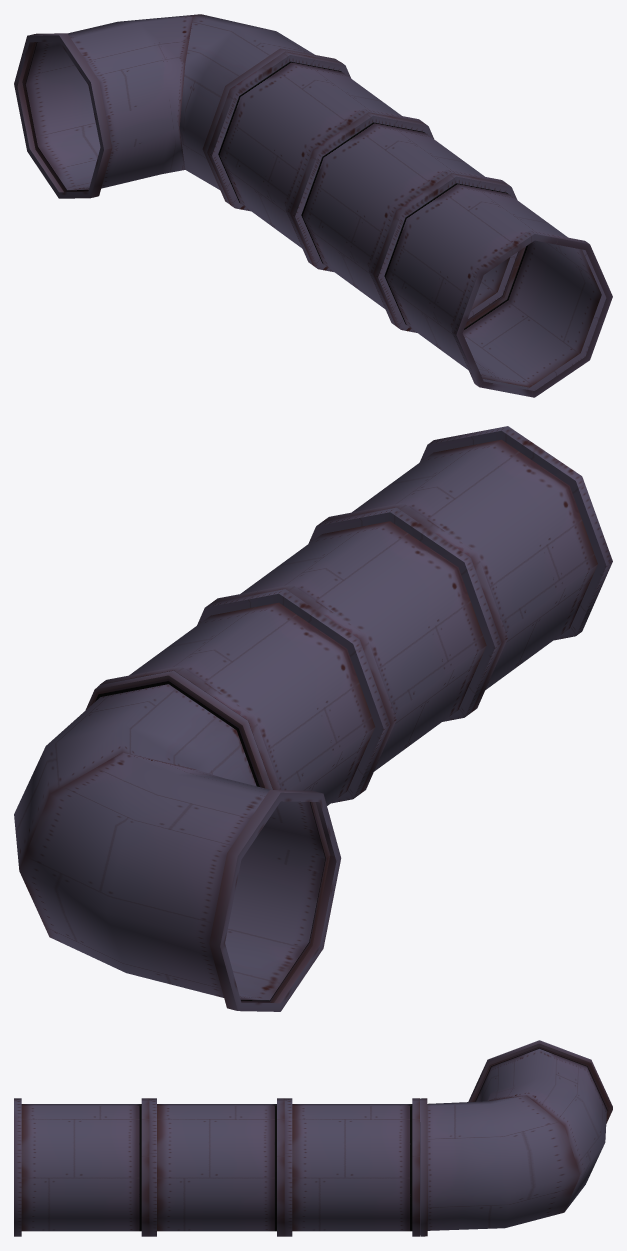
Rendered from Deco_Pipe_001.glb.
3 views of the same model, one above another, from view 1: azimuth 30°, elevation 25°; view 2: azimuth 150°, elevation 25°; view 3: azimuth 270°, elevation 25° (orthographic). The views are drawn at different scales.
Visible parts, largest first — view 1: Deco_Pipe.001; view 2: Deco_Pipe.001; view 3: Deco_Pipe.001.
Part boxes in pixels (x1=…): Deco_Pipe.001: x1=14, y1=14, x2=612, y2=397; Deco_Pipe.001: x1=14, y1=426, x2=612, y2=1011; Deco_Pipe.001: x1=14, y1=1040, x2=612, y2=1236.
Size of the model in its own units: 3.22 by 2.18 by 8.85.
1 material, 1 textured.
